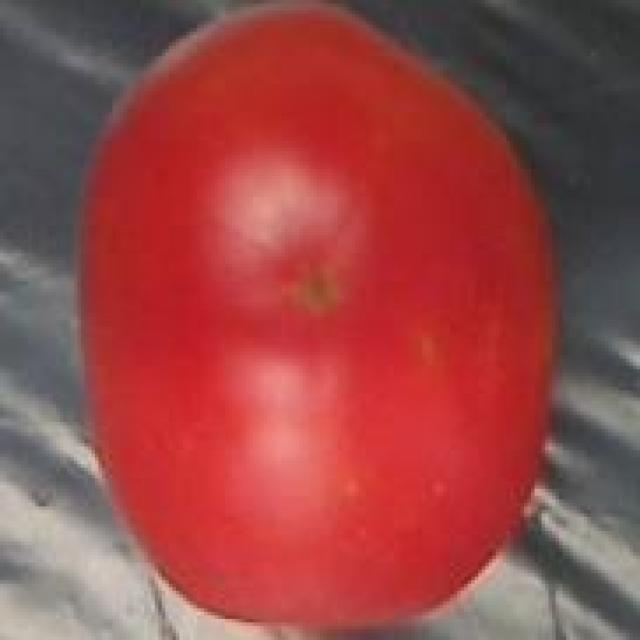ripe tomato: (59, 0, 570, 640)
